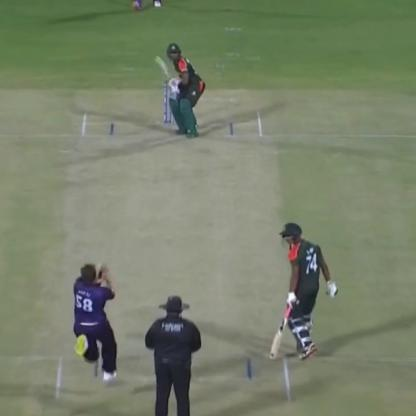ball: (93, 256, 112, 278)
bat: (268, 290, 295, 364), (146, 45, 180, 97)
pitch: (49, 100, 298, 411)
